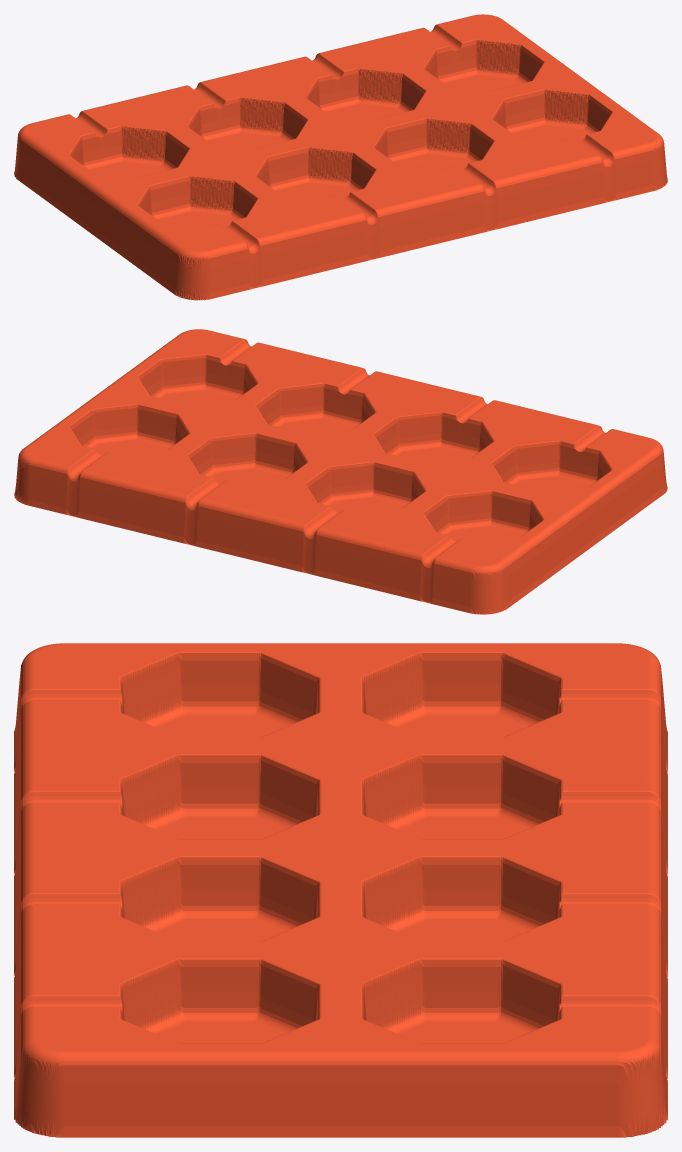
File: mold.glb
3 renders of one model, top to bottom at view 1: azimuth 30°, elevation 25°; view 2: azimuth 150°, elevation 25°; view 3: azimuth 270°, elevation 25°, orthographic. The views are drawn at different scales.
Parts seen in each view (by area): view 1: geometry_0; view 2: geometry_0; view 3: geometry_0.
Boxes of the visible parts, bbox=[...] form: geometry_0: bbox=[14, 14, 667, 300]; geometry_0: bbox=[14, 329, 667, 614]; geometry_0: bbox=[14, 643, 667, 1137].
Bounding box in the file's own units: 0.1805 × 0.0155 × 0.1178.
